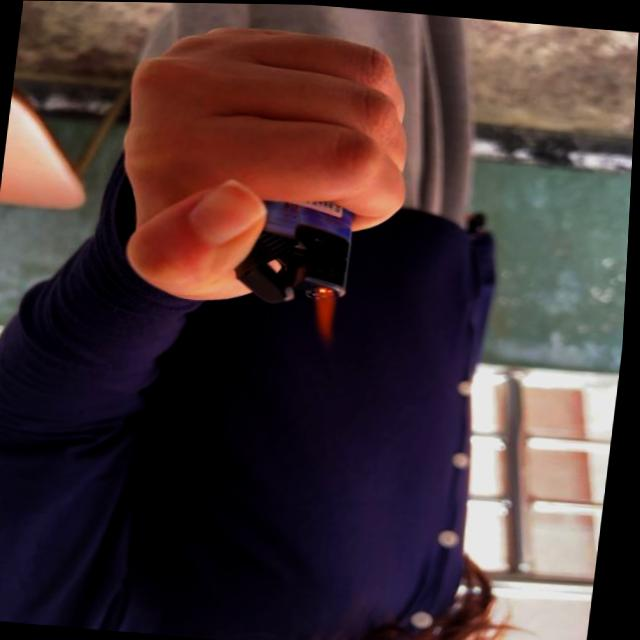helmet: (308, 283, 343, 346)
